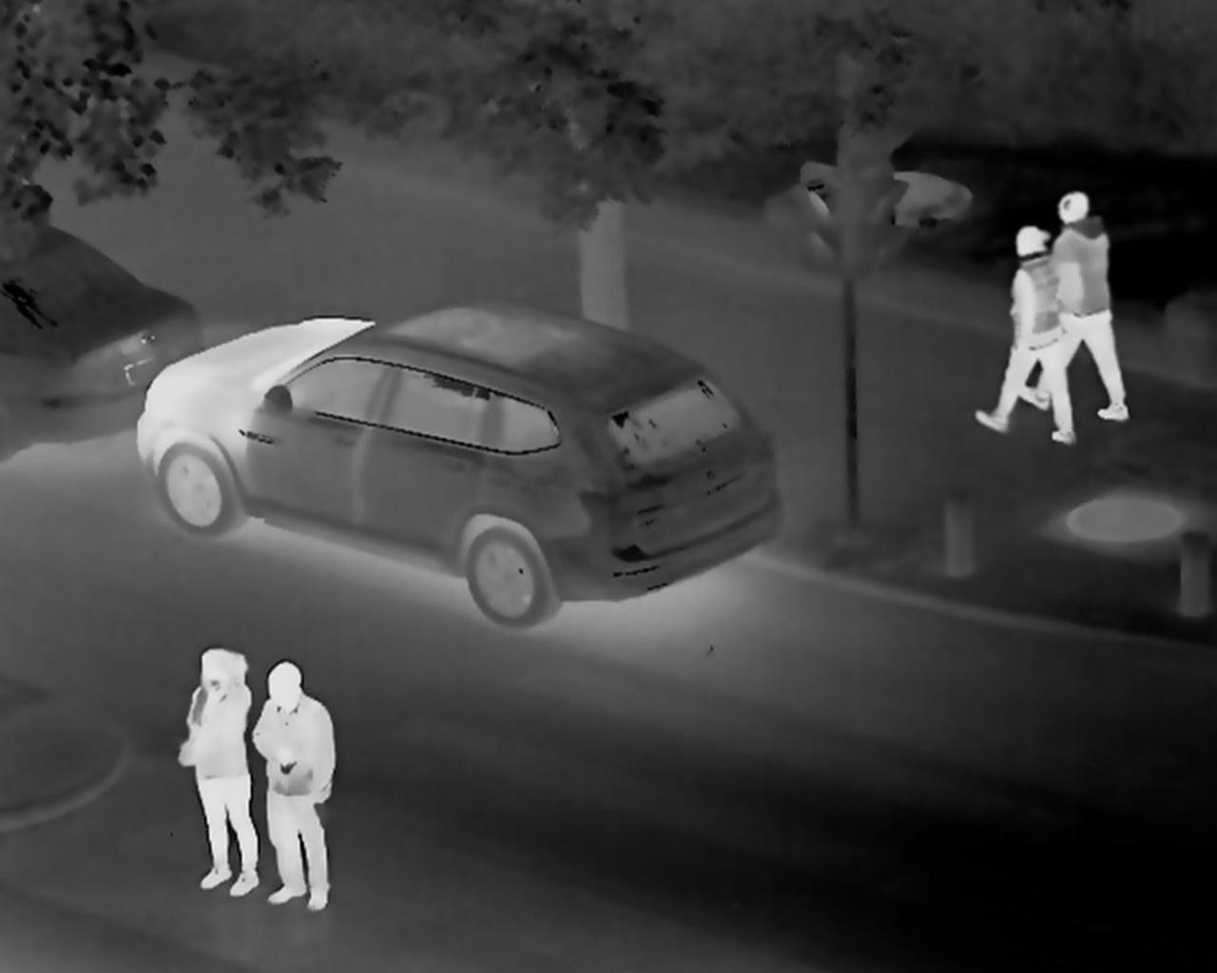person: (1014, 189, 1133, 422), (244, 656, 337, 916), (974, 223, 1077, 447), (174, 645, 261, 898)
